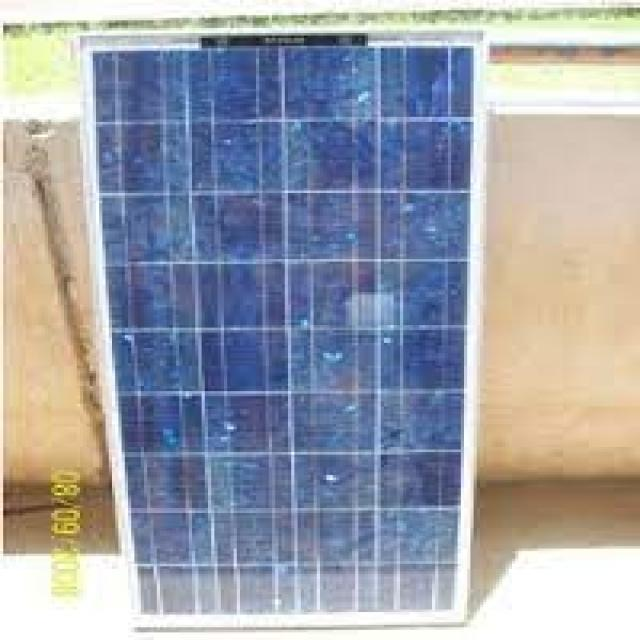faulty: (108, 33, 480, 618)
